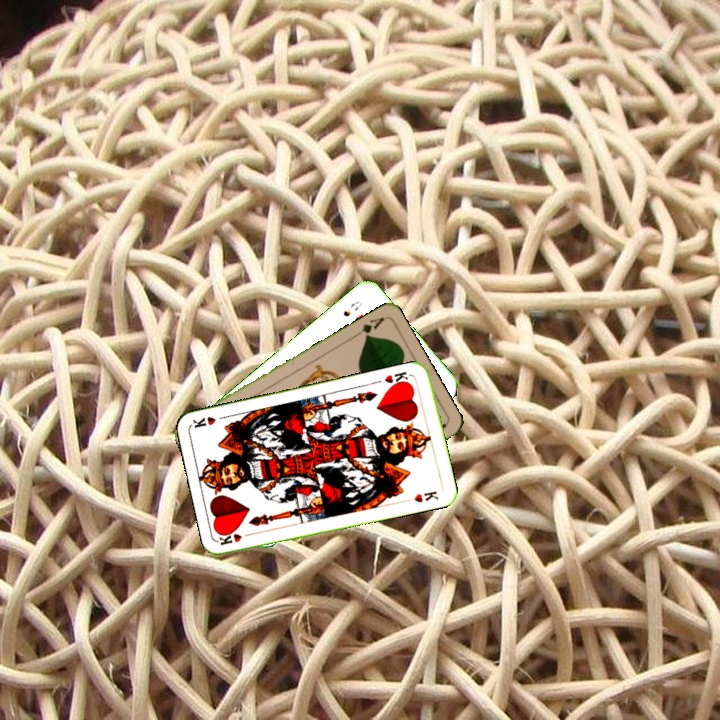GA: (350, 313, 387, 341)
HK: (380, 367, 415, 390), (216, 529, 257, 548)
S8: (339, 297, 364, 319)
